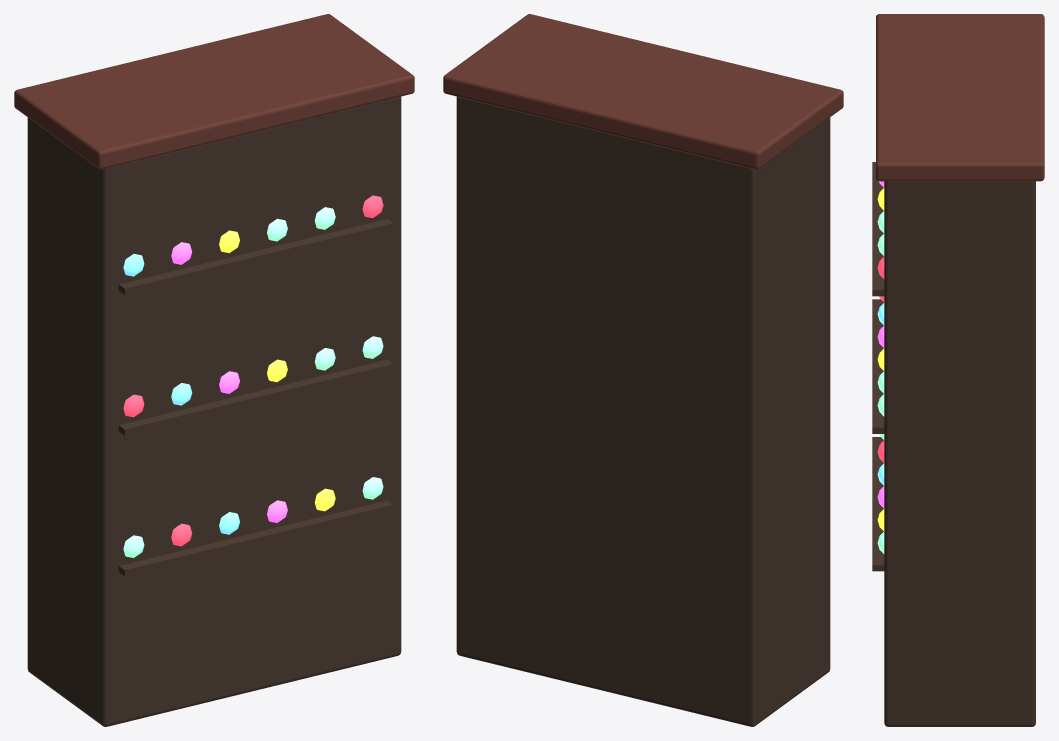
The model's file is cabinet_potion_rack.glb.
3 renders of one model, left to right at view 1: azimuth 30°, elevation 25°; view 2: azimuth 150°, elevation 25°; view 3: azimuth 270°, elevation 25°, orthographic. The views are drawn at different scales.
Parts seen in each view (by area): view 1: GD_cabinet_potion_rack__m0, GD_cabinet_potion_rack__m1, GD_cabinet_potion_rack__m5, GD_cabinet_potion_rack__m3, GD_cabinet_potion_rack__m4, GD_cabinet_potion_rack__m7, GD_cabinet_potion_rack__m6; view 2: GD_cabinet_potion_rack__m0, GD_cabinet_potion_rack__m1; view 3: GD_cabinet_potion_rack__m0, GD_cabinet_potion_rack__m1, GD_cabinet_potion_rack__m5, GD_cabinet_potion_rack__m4.
Part boxes in pixels (left/top/right/bottom): GD_cabinet_potion_rack__m0: left=27, top=96, right=401, bottom=726; GD_cabinet_potion_rack__m1: left=14, top=14, right=414, bottom=169; GD_cabinet_potion_rack__m5: left=123, top=207, right=383, bottom=557; GD_cabinet_potion_rack__m3: left=171, top=242, right=287, bottom=522; GD_cabinet_potion_rack__m4: left=219, top=230, right=335, bottom=511; GD_cabinet_potion_rack__m7: left=123, top=254, right=239, bottom=534; GD_cabinet_potion_rack__m6: left=123, top=195, right=383, bottom=546; GD_cabinet_potion_rack__m0: left=456, top=96, right=830, bottom=726; GD_cabinet_potion_rack__m1: left=443, top=14, right=843, bottom=169; GD_cabinet_potion_rack__m0: left=872, top=162, right=1035, bottom=726; GD_cabinet_potion_rack__m1: left=876, top=14, right=1044, bottom=181; GD_cabinet_potion_rack__m5: left=877, top=211, right=884, bottom=553; GD_cabinet_potion_rack__m4: left=877, top=188, right=884, bottom=530.
Size of the model in its own units: 1.06 by 1.86 by 0.51.
